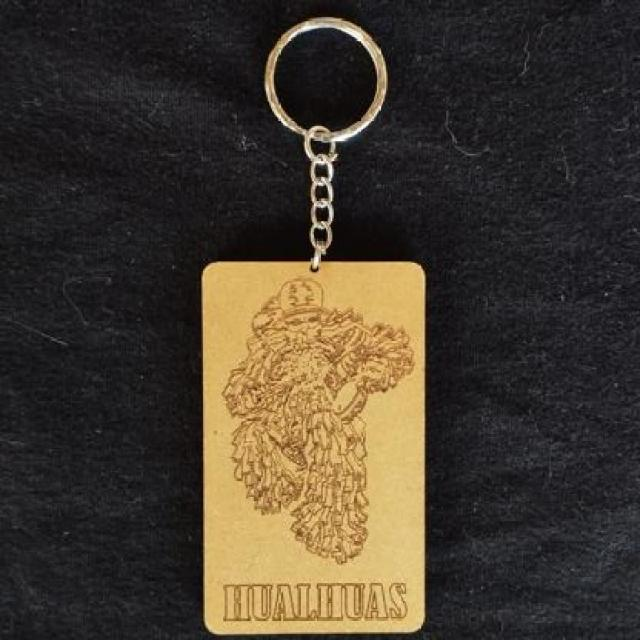Llavero: (220, 276, 415, 564)
